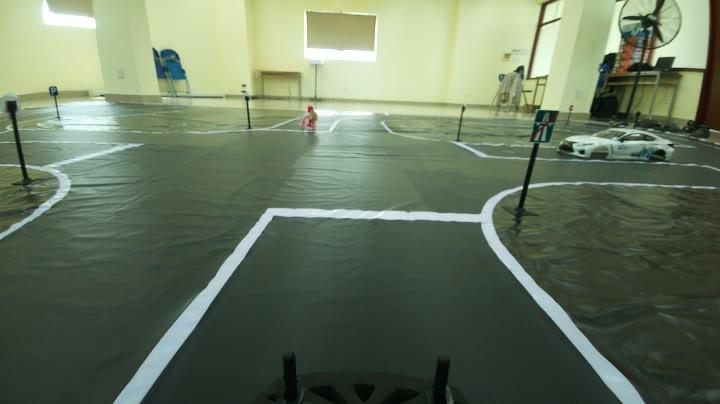highway_exit: (524, 106, 560, 150)
